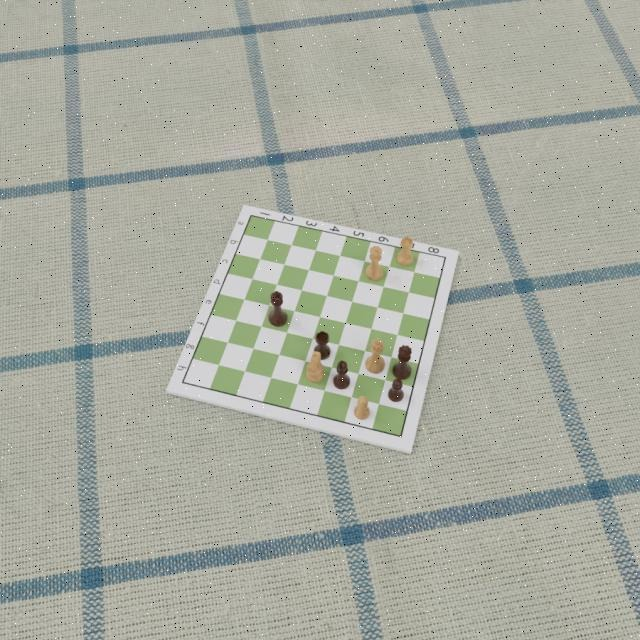black-bishop: (333, 359, 351, 390)
black-king: (268, 289, 288, 327)
black-pawn: (386, 377, 405, 403)
black-queen: (392, 344, 412, 380)
black-rook: (312, 330, 331, 362)
white-king: (365, 337, 387, 375)
white-knight: (305, 350, 326, 383)
white-pawn: (352, 395, 372, 421)
white-queen: (364, 244, 384, 282)
white-rook: (397, 237, 415, 267)
